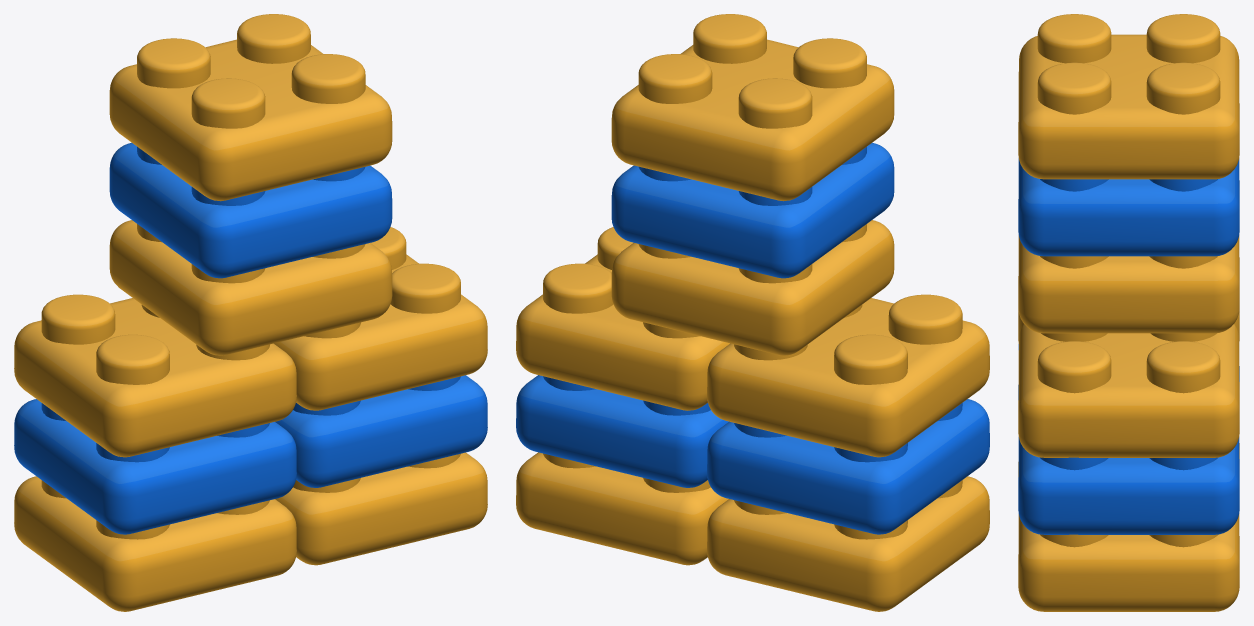
Rendered from Lvl1.fbx.
3 renders of one model, left to right at view 1: azimuth 30°, elevation 25°; view 2: azimuth 150°, elevation 25°; view 3: azimuth 270°, elevation 25°, orthographic.
Parts seen in each view (by area): view 1: LV1; view 2: LV1; view 3: LV1.
Part boxes in pixels (left/top/right/bottom): LV1: left=14, top=14, right=487, bottom=611; LV1: left=516, top=14, right=989, bottom=611; LV1: left=1018, top=14, right=1239, bottom=611.
Size of the model in its own units: 393 by 470 by 198.
1 material, 1 textured.
